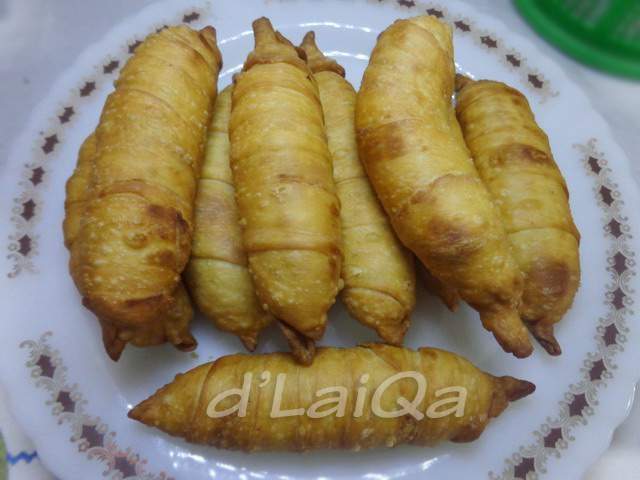pisang_molen: (356, 15, 536, 360), (125, 345, 537, 456), (80, 24, 225, 325), (228, 17, 338, 339)
